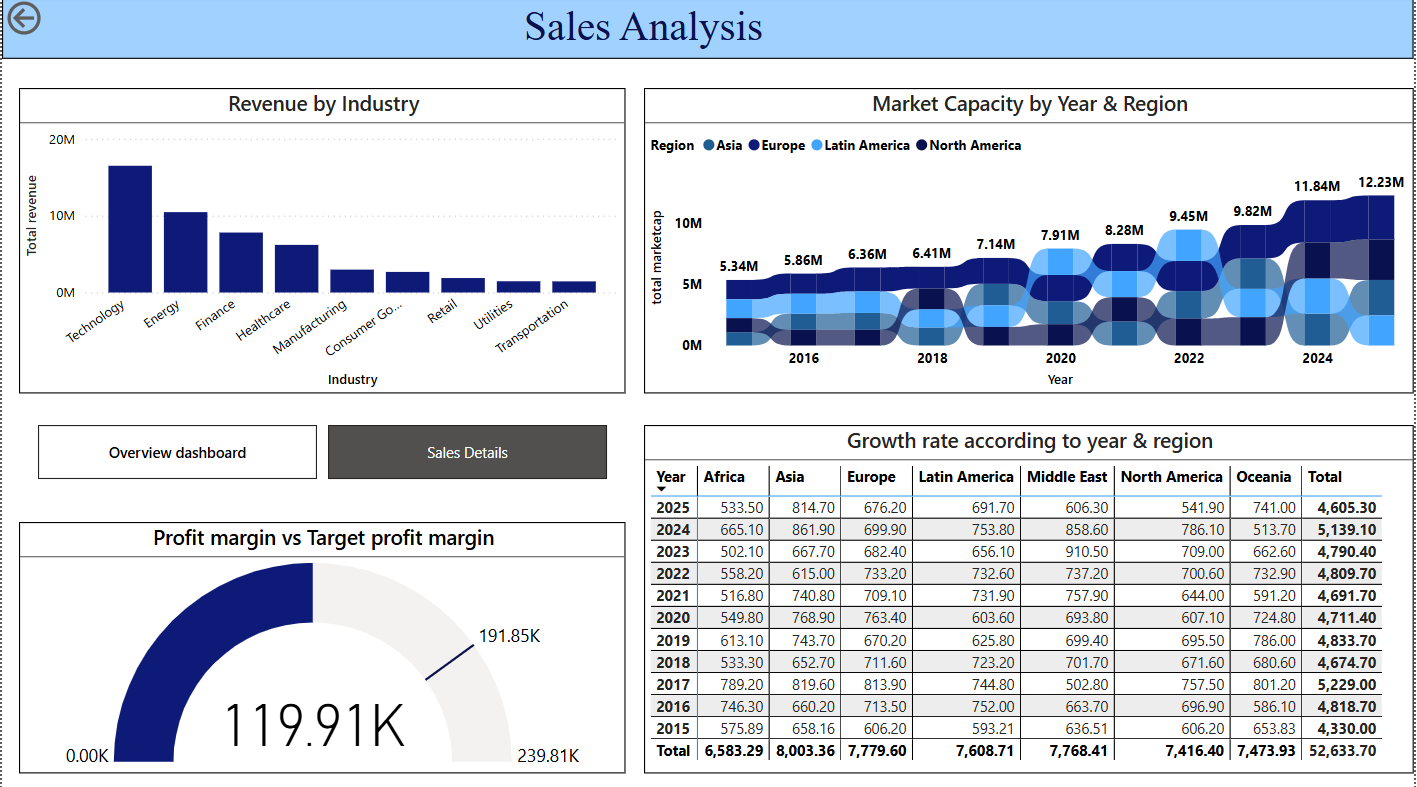

What the dashboard file says about the page in this screenshot:
{"tool":"powerbi","page":{"name":" Sales Details","canvas":[1280,720],"ordinal":1},"visuals":[{"type":"textbox","box":[0,0,1280.4,57.1],"z":0},{"type":"pivotTable","title":"Growth rate according to year & region","fields":{"Rows":["company_esg_financial_dataset.Year"],"Columns":["company_esg_financial_dataset.Region"],"Values":["company_esg_financial_dataset.Total growth rate"]},"box":[582.2,389,698.2,315.6],"z":1000},{"type":"lineStackedColumnComboChart","title":"Revenue by Industry","fields":{"Category":["company_esg_financial_dataset.Industry"],"Y":["company_esg_financial_dataset.Total revenue"]},"box":[15.4,83.4,550.4,276.6],"z":2000},{"type":"gauge","title":"Profit margin vs  Target profit margin","fields":{"Y":["company_esg_financial_dataset.total profitmar"],"TargetValue":["company_esg_financial_dataset.target profit margin"]},"box":[15.4,477,550.4,227.6],"z":3000},{"type":"ribbonChart","title":"Market Capacity by Year & Region","fields":{"Series":["company_esg_financial_dataset.Region"],"Category":["company_esg_financial_dataset.Year"],"Y":["company_esg_financial_dataset.total marketcap"]},"box":[582.2,83.4,698.2,276.6],"z":4000},{"type":"pageNavigator","box":[32.6,389,516.9,49.9],"z":5000},{"type":"actionButton","box":[0,0,100,40],"z":6000}]}

Visuals, with their boxes in screenshot pixels (x1, y1, x2, y2), scaled from the page's 1280x720 canvas onto the 1417x787 screenshot:
textbox: left=0, top=0, right=1416, bottom=62
"Growth rate according to year & region" pivotTable: left=645, top=425, right=1416, bottom=770
"Revenue by Industry" lineStackedColumnComboChart: left=17, top=91, right=626, bottom=393
"Profit margin vs  Target profit margin" gauge: left=17, top=521, right=626, bottom=770
"Market Capacity by Year & Region" ribbonChart: left=645, top=91, right=1416, bottom=393
pageNavigator: left=36, top=425, right=608, bottom=480
actionButton: left=0, top=0, right=111, bottom=44
